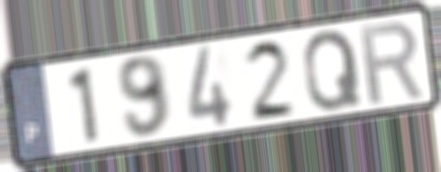1: (66, 63, 101, 146)
2: (242, 37, 298, 121)
4: (185, 43, 236, 131)
9: (115, 52, 176, 141)
Q: (301, 26, 364, 115)
R: (356, 18, 427, 108)
